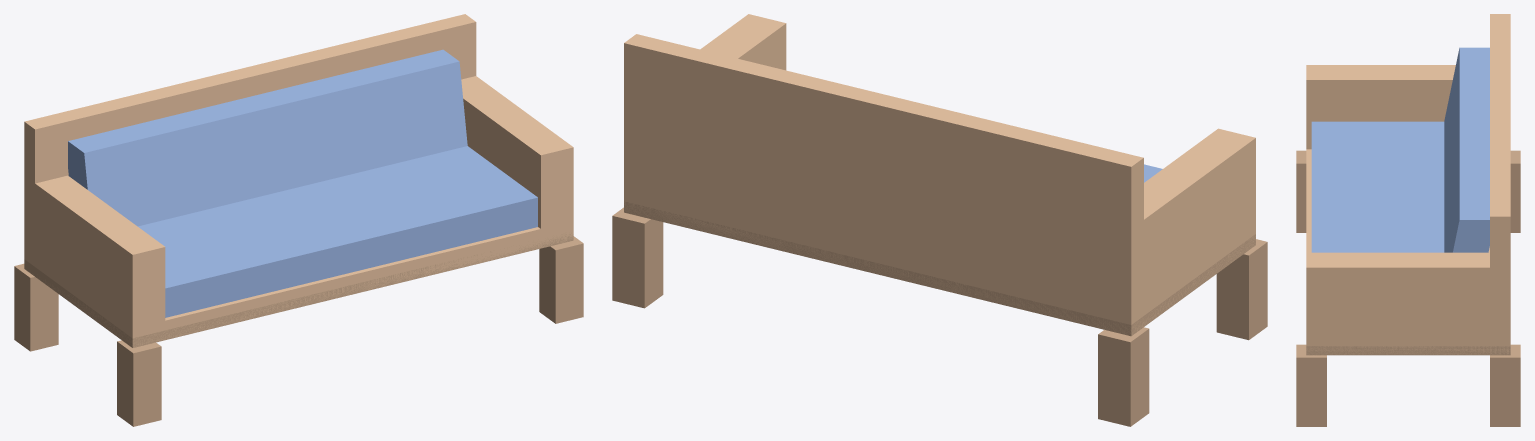
The model's file is sofaRustic.glb.
3 views of the same model, side by side, from view 1: azimuth 30°, elevation 25°; view 2: azimuth 150°, elevation 25°; view 3: azimuth 270°, elevation 25° (orthographic). The views are drawn at different scales.
Parts seen in each view (by area): view 1: sofaRustic; view 2: sofaRustic; view 3: sofaRustic.
Boxes of the visible parts, x1,y1,x2,y2 form: sofaRustic: (14,14,583,426); sofaRustic: (612,14,1267,426); sofaRustic: (1296,14,1520,426).
Size of the model in its own units: 0.96 by 0.45 by 0.44.
